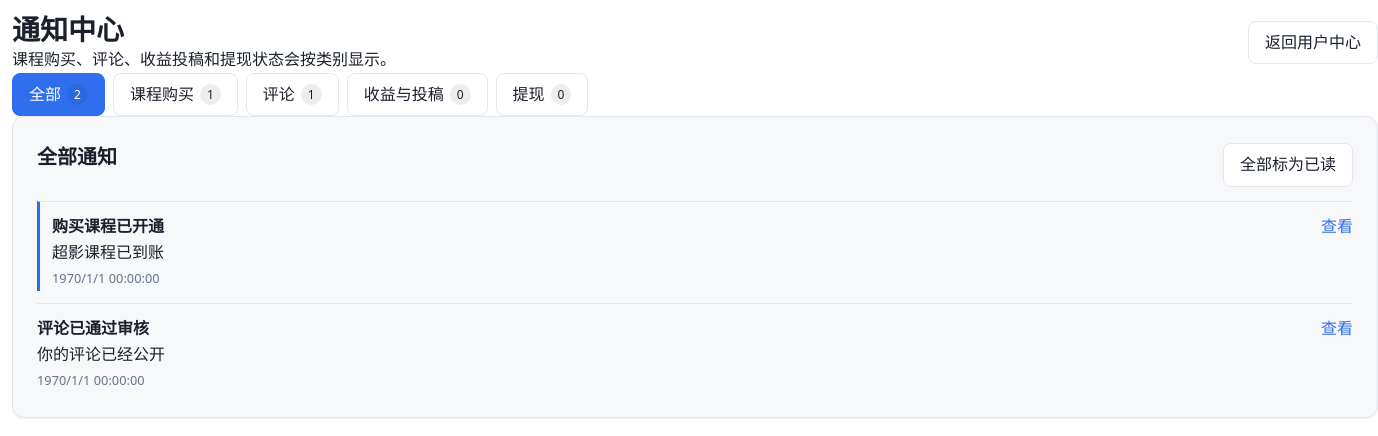
NotificationsPage › classifies purchase and comment notifications
The width and height of the screenshot is (1378, 436).
Expected: the text "购买课程已开通" is shown, left=52, top=215, right=164, bottom=237
Expected: the text "评论已通过审核" is shown, left=37, top=317, right=149, bottom=339
Click the tab "课程购买 1".
click(175, 94)  # box left=113, top=73, right=238, bottom=116
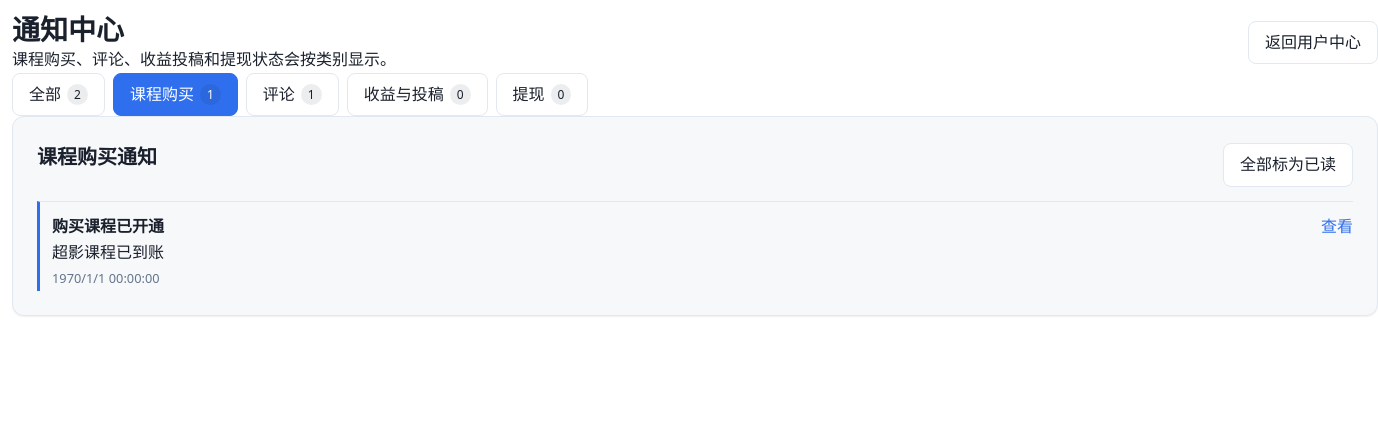
Expected: the text "购买课程已开通" is shown, left=52, top=215, right=164, bottom=237
Expected: the text "评论已通过审核" is gone
Click the tab "评论 1".
click(292, 94)  # box left=246, top=73, right=339, bottom=116
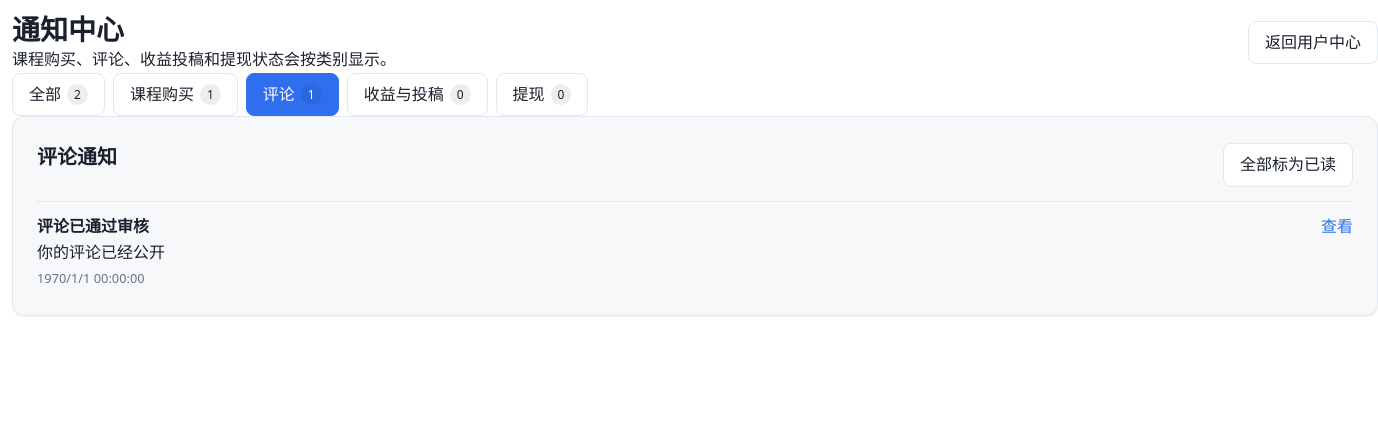
Expected: the text "评论已通过审核" is shown, left=37, top=215, right=149, bottom=237
Expected: the text "购买课程已开通" is gone
